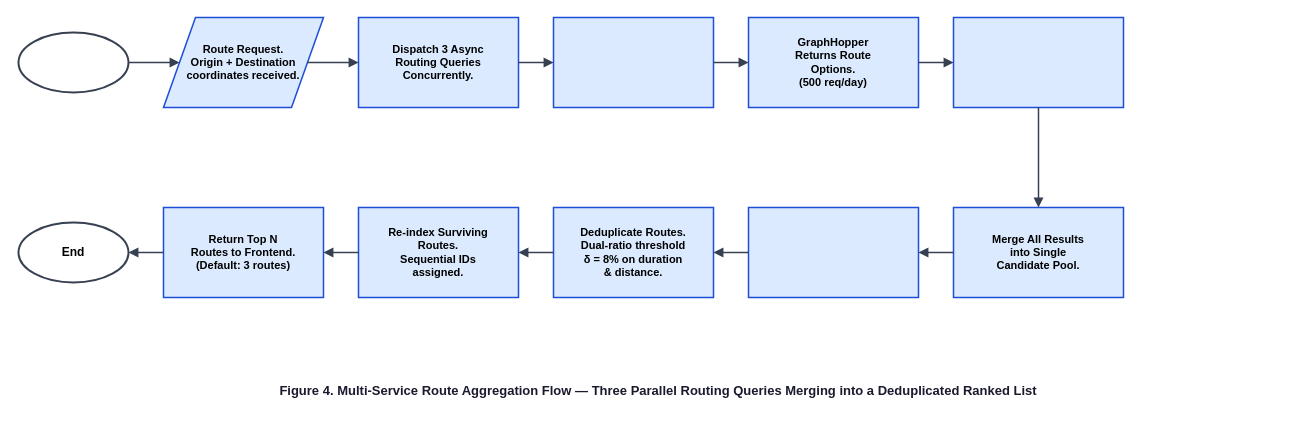
Some shapes in this 1315 by 426 pixel diagram are drawn without their labels. Here are the shapes that lost their labels. From the top down, the box of each, then its label:
(17, 31, 129, 93): Start
(552, 16, 714, 108): OSRM Returns Route Options. (OpenStreetMap engine)
(952, 16, 1124, 108): OpenRouteService Returns Route Options. (2000 req/day)
(747, 206, 919, 298): Sort by Duration. Fastest routes ranked first.
